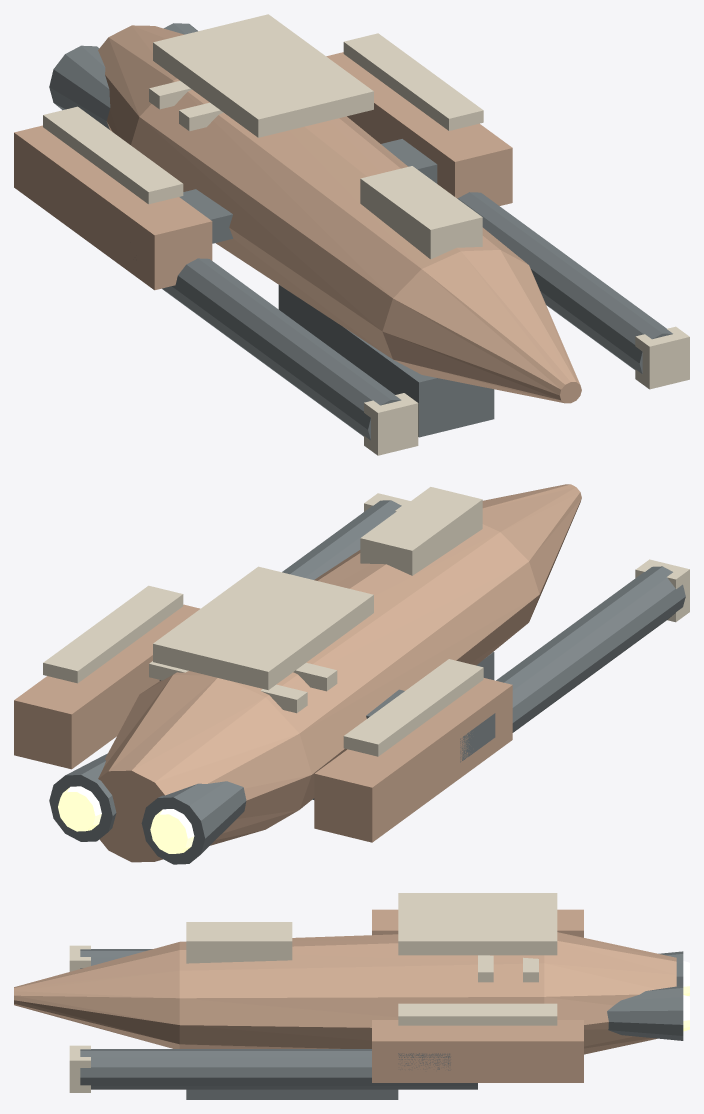
3 views of the same model, one above another, from view 1: azimuth 30°, elevation 25°; view 2: azimuth 150°, elevation 25°; view 3: azimuth 270°, elevation 25° (orthographic). The views are drawn at different scales.
Bounding box in the file's own units: 2.33 × 1.37 × 5.05.
